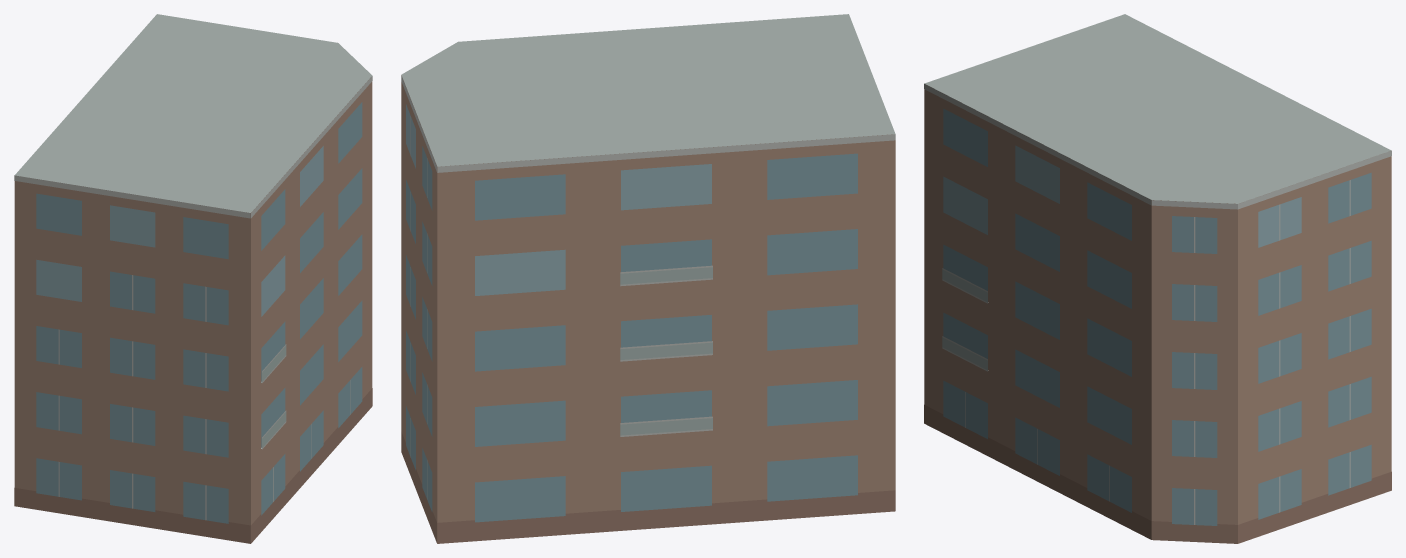
The model's file is survey-upis-32939585.glb.
The picture shows the model from 3 angles, left to right: view 1: azimuth 30°, elevation 25°; view 2: azimuth 150°, elevation 25°; view 3: azimuth 270°, elevation 25°; orthographic projection. The views are drawn at different scales.
Parts seen in each view (by area): view 1: survey-upis-32939585.tmp; view 2: survey-upis-32939585.tmp; view 3: survey-upis-32939585.tmp.
Part boxes in pixels (left/top/right/bottom): survey-upis-32939585.tmp: left=14, top=14, right=372, bottom=543; survey-upis-32939585.tmp: left=401, top=14, right=895, bottom=543; survey-upis-32939585.tmp: left=924, top=14, right=1391, bottom=543.
Bounding box in the file's own units: 17.74 × 14.8 × 18.45.
